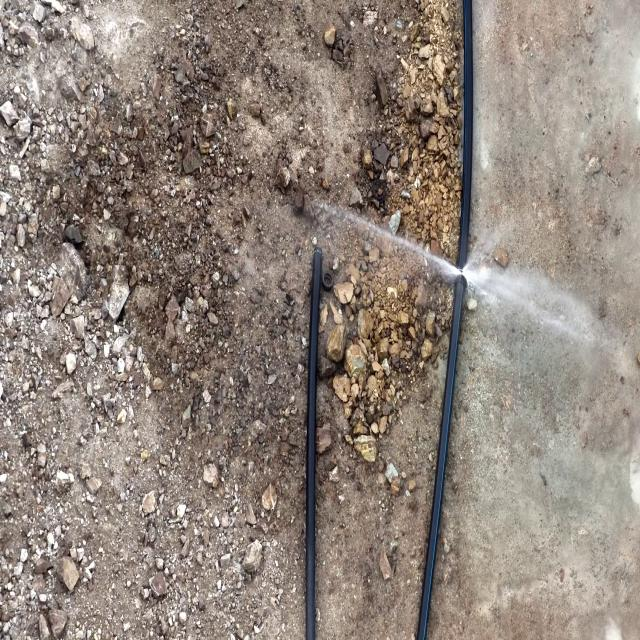leak: (305, 189, 533, 318)
